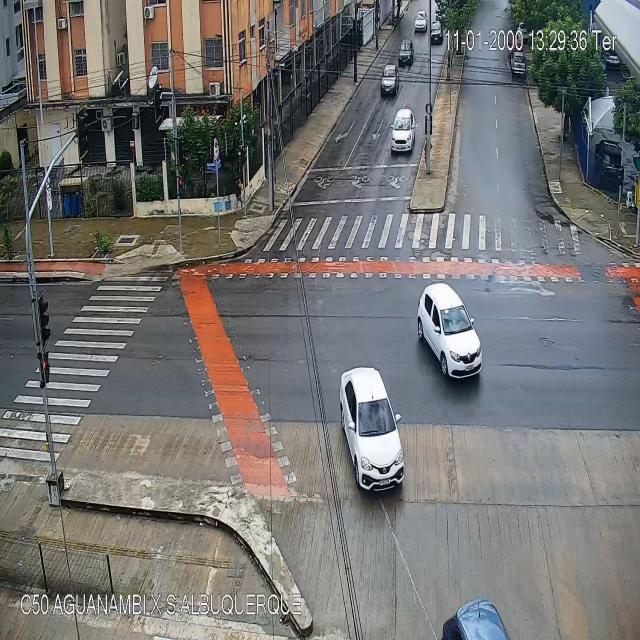Car: (340, 366, 406, 496), (415, 284, 482, 382), (430, 577, 514, 640), (390, 108, 416, 153), (380, 64, 399, 95), (398, 41, 414, 66), (414, 11, 426, 32), (431, 23, 443, 43), (512, 56, 524, 76)
